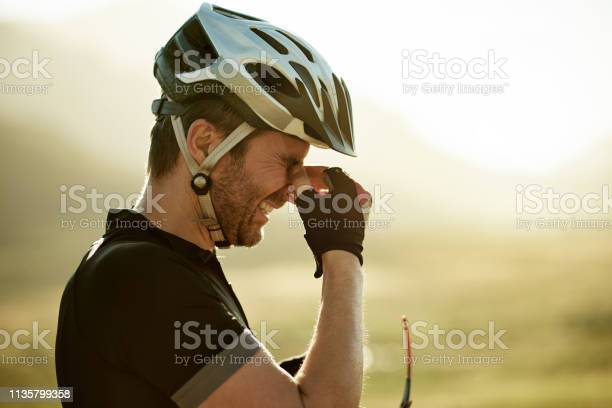helmet: (153, 2, 358, 248)
